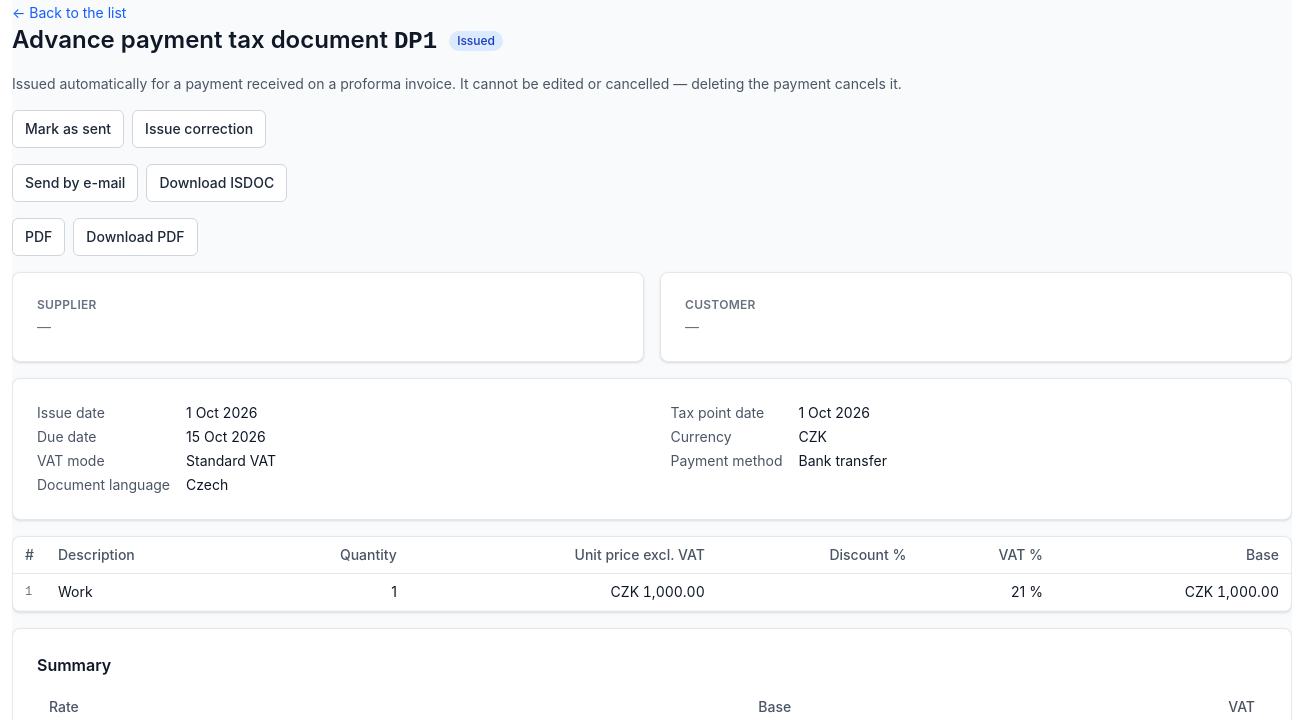
Scenario: correction actions (1f-a) › DDPP correction refused with 409 advance_settled explains why
The image size is (1292, 720).
Click the button with test id "ddpp-correction": (199, 129) [132,110,266,148]
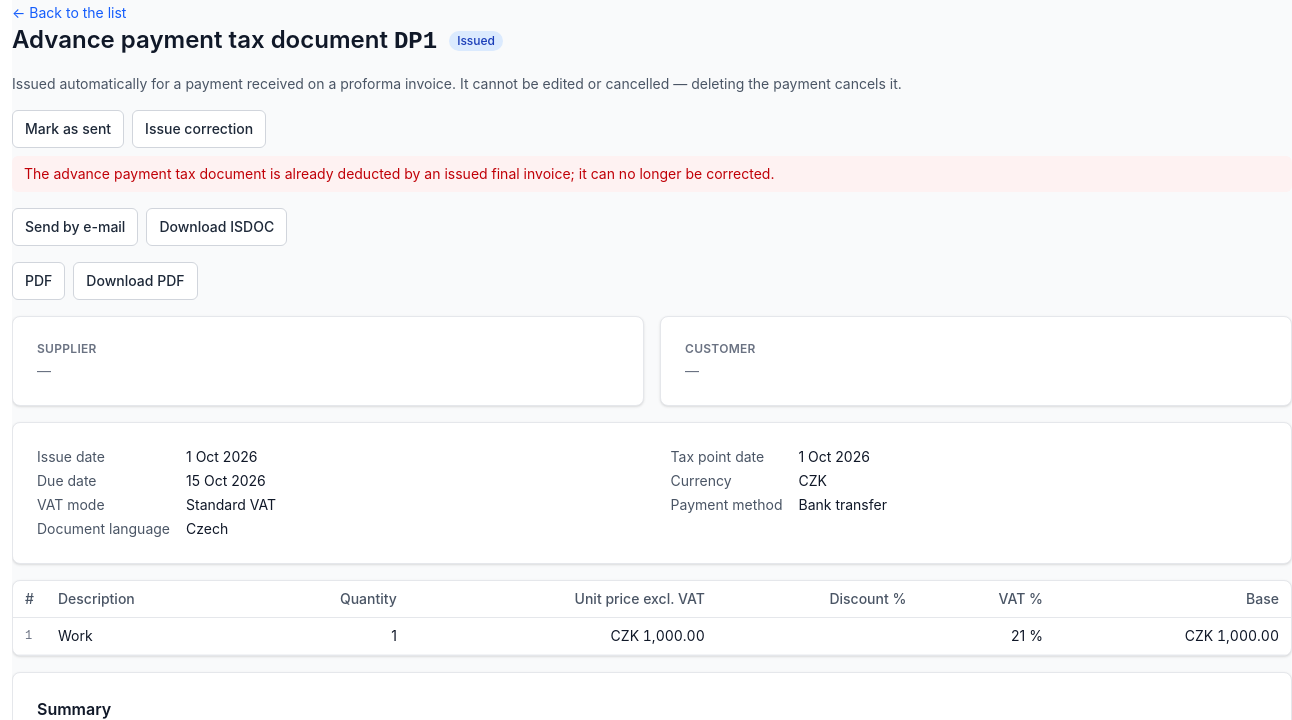
Now the message with test id "action-error" shows "already deducted by an issued final invoice", box [24,165,774,182]
